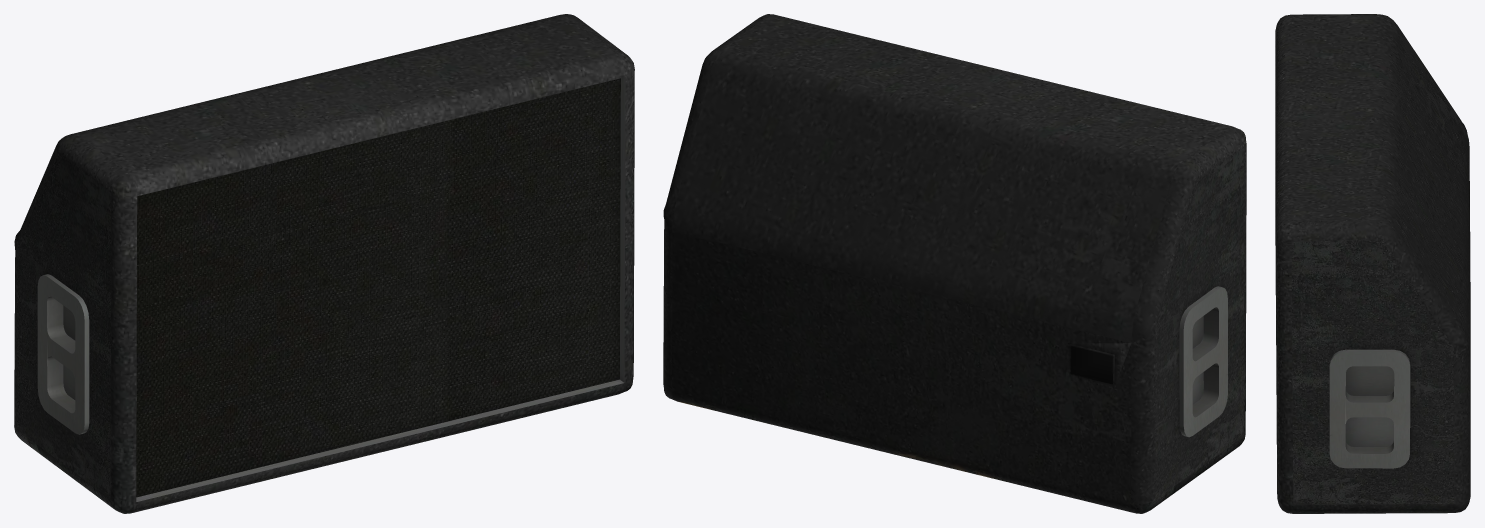
File: monitor.glb
The picture shows the model from 3 angles, left to right: view 1: azimuth 30°, elevation 25°; view 2: azimuth 150°, elevation 25°; view 3: azimuth 270°, elevation 25°; orthographic projection. The views are drawn at different scales.
Visible parts, largest first — view 1: Object_2; view 2: Object_2; view 3: Object_2.
Boxes of the visible parts, <box> form: Object_2: <box>14,14,634,513</box>; Object_2: <box>663,14,1246,513</box>; Object_2: <box>1275,14,1470,513</box>.
Bounding box in the file's own units: 0.3381 × 0.208 × 0.1257.
Materials: 1 (1 with a texture image).
